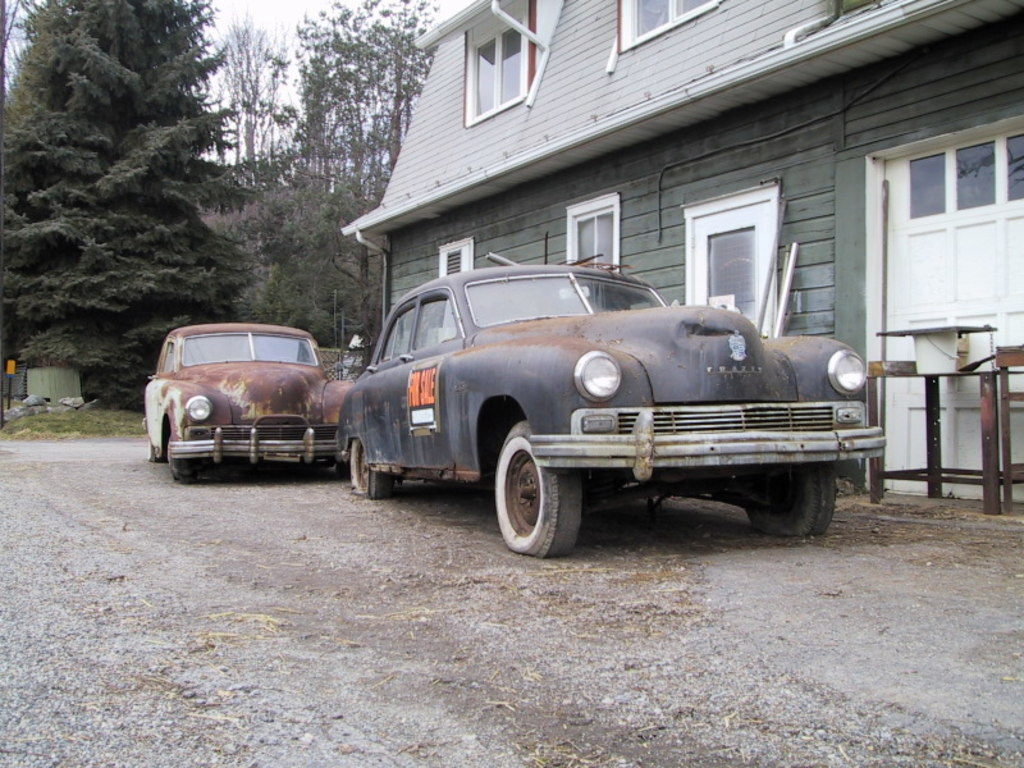Car: (317, 247, 874, 555), (142, 320, 362, 458)
